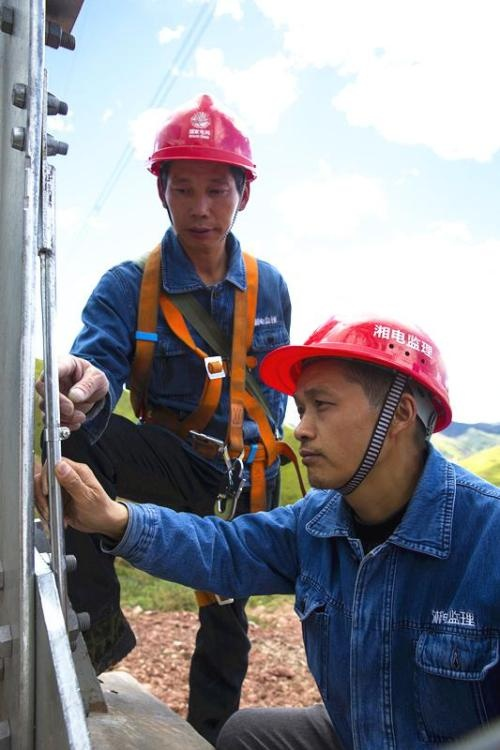red: (262, 302, 454, 502), (140, 95, 259, 251)
